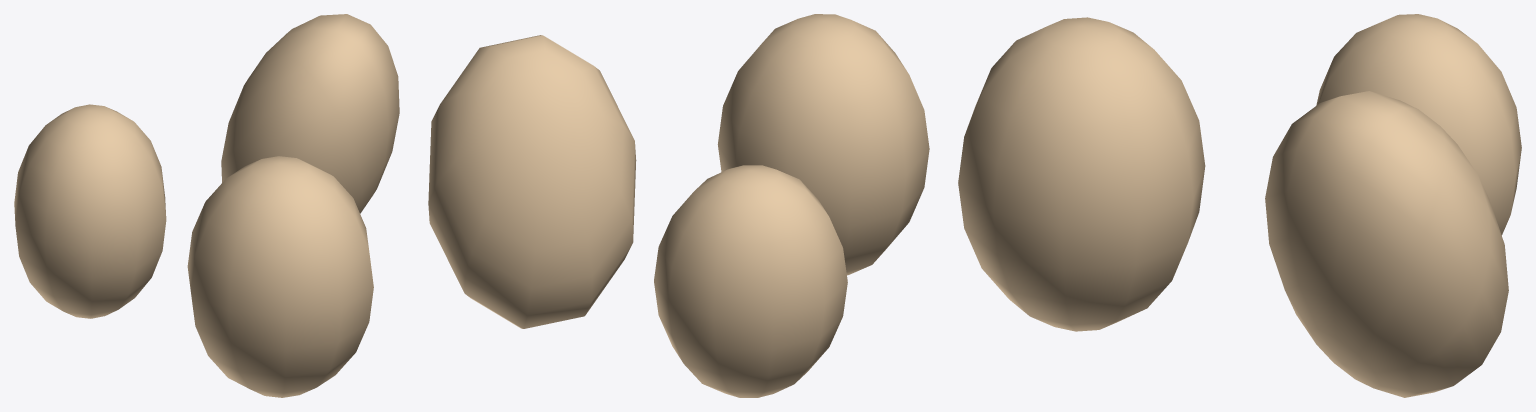
Rendered from potato.gltf.
3 renders of one model, left to right at view 1: azimuth 30°, elevation 25°; view 2: azimuth 150°, elevation 25°; view 3: azimuth 270°, elevation 25°, orthographic. The views are drawn at different scales.
Visible parts, largest first — view 1: Sphere_1, Sphere_2, Sphere; view 2: Sphere, Sphere_2, Sphere_1; view 3: Sphere_1, Sphere, Sphere_2.
Part boxes in pixels (<box>): Sphere_1: <box>187,156,373,397</box>; Sphere_2: <box>14,104,166,318</box>; Sphere: <box>221,14,399,213</box>; Sphere: <box>428,35,636,328</box>; Sphere_2: <box>654,165,847,397</box>; Sphere_1: <box>717,14,929,275</box>; Sphere_1: <box>958,17,1205,331</box>; Sphere: <box>1265,91,1508,397</box>; Sphere_2: <box>1316,14,1521,235</box>.
Size of the model in its own units: 213 by 140 by 221.
